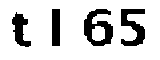5: (118, 7, 148, 50)
6: (82, 5, 114, 49)
l: (46, 5, 69, 51)
t: (9, 9, 35, 48)
